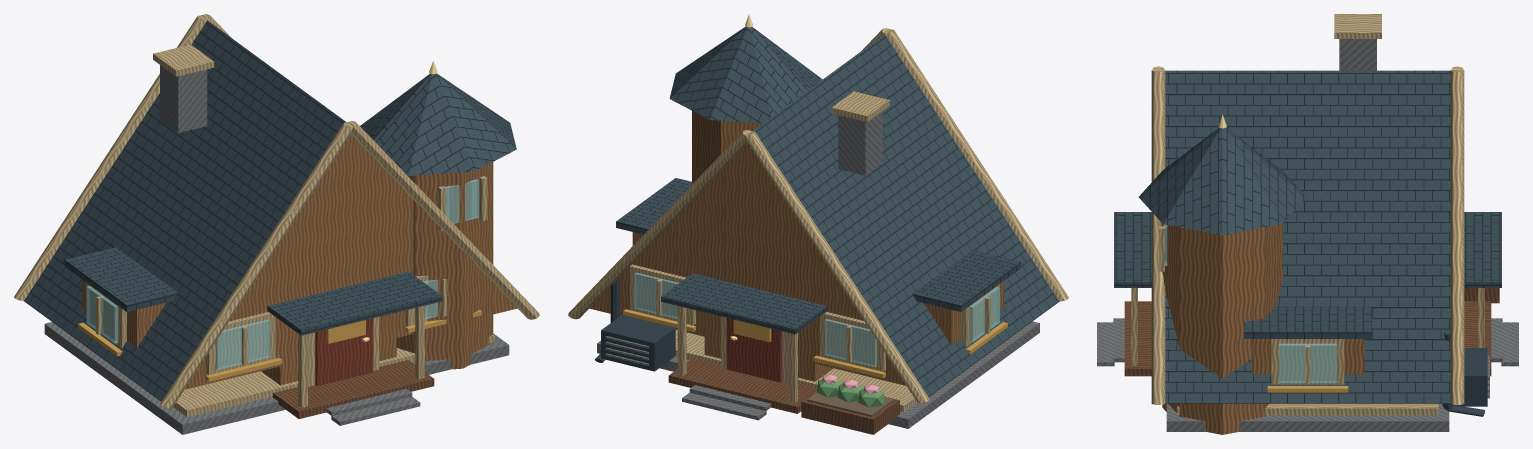
The model's file is house_aframe_lv4_tower.glb.
3 views of the same model, side by side, from view 1: azimuth 30°, elevation 25°; view 2: azimuth 150°, elevation 25°; view 3: azimuth 270°, elevation 25° (orthographic). The views are drawn at different scales.
Parts seen in each view (by area): view 1: steep_roof, a_frame_gables, tower, tower_roof, front_porch_canopy, foundation, a_frame_edge, left_dormer_cap, front_deck, walls, a_frame_edge.002, a_frame_edge.001 (+17 smaller); view 2: steep_roof, a_frame_gables, tower_roof, walls, back_porch_canopy, a_frame_edge.001, left_dormer_cap, a_frame_edge, back_deck, a_frame_edge.003, back_ac_unit, foundation (+22 smaller); view 3: steep_roof.001, tower, tower_roof, a_frame_edge.003, foundation, a_frame_edge.002, right_dormer_cap, right_window_frame, back_porch_canopy, front_porch_canopy, floor_trim, right_window_glass (+14 smaller).
Boxes of the visible parts, left/top/right/bottom form: steep_roof: left=24, top=20, right=346, bottom=401; a_frame_gables: left=184, top=135, right=517, bottom=389; tower: left=396, top=162, right=493, bottom=369; tower_roof: left=360, top=73, right=516, bottom=175; front_porch_canopy: left=267, top=271, right=442, bottom=335; foundation: left=44, top=322, right=509, bottom=434; a_frame_edge: left=160, top=122, right=353, bottom=407; left_dormer_cap: left=64, top=247, right=177, bottom=311; front_deck: left=272, top=360, right=434, bottom=418; walls: left=261, top=232, right=396, bottom=385; a_frame_edge.002: left=347, top=121, right=539, bottom=319; a_frame_edge.001: left=14, top=15, right=206, bottom=300; steep_roof: left=752, top=34, right=1059, bottom=397; a_frame_gables: left=589, top=143, right=906, bottom=385; tower_roof: left=669, top=26, right=822, bottom=123; walls: left=704, top=231, right=833, bottom=381; back_porch_canopy: left=661, top=273, right=827, bottom=334; a_frame_edge.001: left=745, top=131, right=929, bottom=403; left_dormer_cap: left=912, top=250, right=1020, bottom=311; a_frame_edge: left=885, top=29, right=1068, bottom=301; back_deck: left=668, top=357, right=817, bottom=413; a_frame_edge.003: left=568, top=130, right=751, bottom=319; back_ac_unit: left=601, top=315, right=675, bottom=371; foundation: left=597, top=321, right=1039, bottom=428; steep_roof.001: left=1165, top=70, right=1450, bottom=403; tower: left=1162, top=223, right=1282, bottom=434; tower_roof: left=1138, top=128, right=1306, bottom=235; a_frame_edge.003: left=1450, top=70, right=1464, bottom=404; foundation: left=1166, top=403, right=1449, bottom=431; a_frame_edge.002: left=1151, top=70, right=1165, bottom=404; right_dormer_cap: left=1244, top=306, right=1371, bottom=338; right_window_frame: left=1271, top=339, right=1344, bottom=384; back_porch_canopy: left=1464, top=212, right=1501, bottom=287; front_porch_canopy: left=1114, top=212, right=1151, bottom=287; floor_trim: left=1177, top=403, right=1438, bottom=415; right_window_glass: left=1279, top=343, right=1336, bottom=382.
Size of the model in its own units: 6.6 by 4.75 by 6.19.
Materials: 13 (7 with a texture image).
